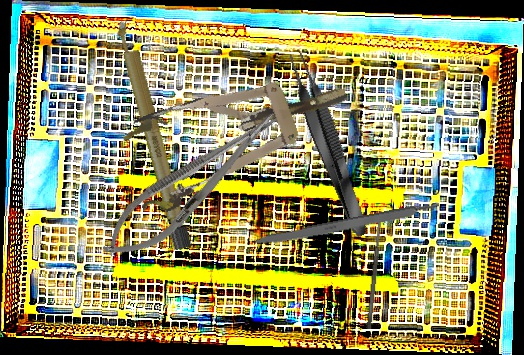Needle Holder: (89, 95, 294, 276)
Scalpel Handle: (113, 18, 194, 251), (251, 200, 441, 251)
Spatula Surgical: (365, 211, 385, 329)
Speculum: (113, 48, 363, 220)
Tissue Forceps: (281, 48, 375, 241)
